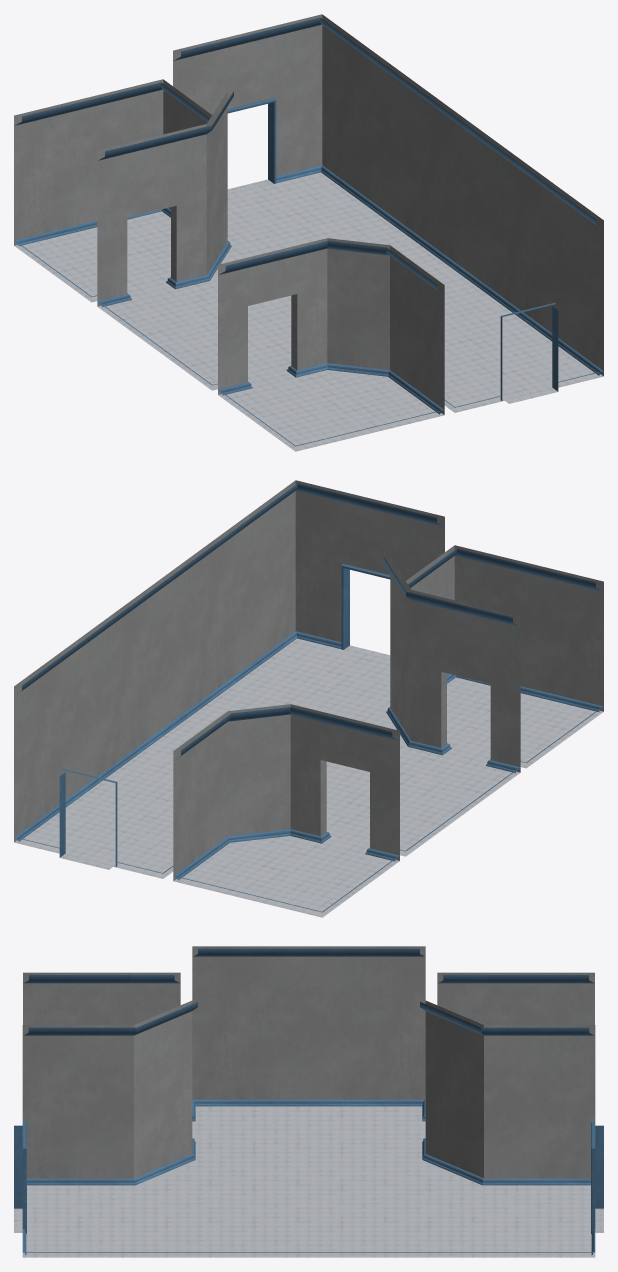
File: PZ_room2_minirooms.glb
3 renders of one model, top to bottom at view 1: azimuth 30°, elevation 25°; view 2: azimuth 150°, elevation 25°; view 3: azimuth 270°, elevation 25°, orthographic.
Parts seen in each view (by area): view 1: PZ_HallwayI.002; view 2: PZ_HallwayI.002; view 3: PZ_HallwayI.002.
Part boxes in pixels (<box>): PZ_HallwayI.002: <box>14,14,603,451</box>; PZ_HallwayI.002: <box>14,480,603,917</box>; PZ_HallwayI.002: <box>14,946,603,1257</box>.
Bounding box in the file's own units: 12.56 × 6.08 × 20.48.
3 materials, 3 textured.
